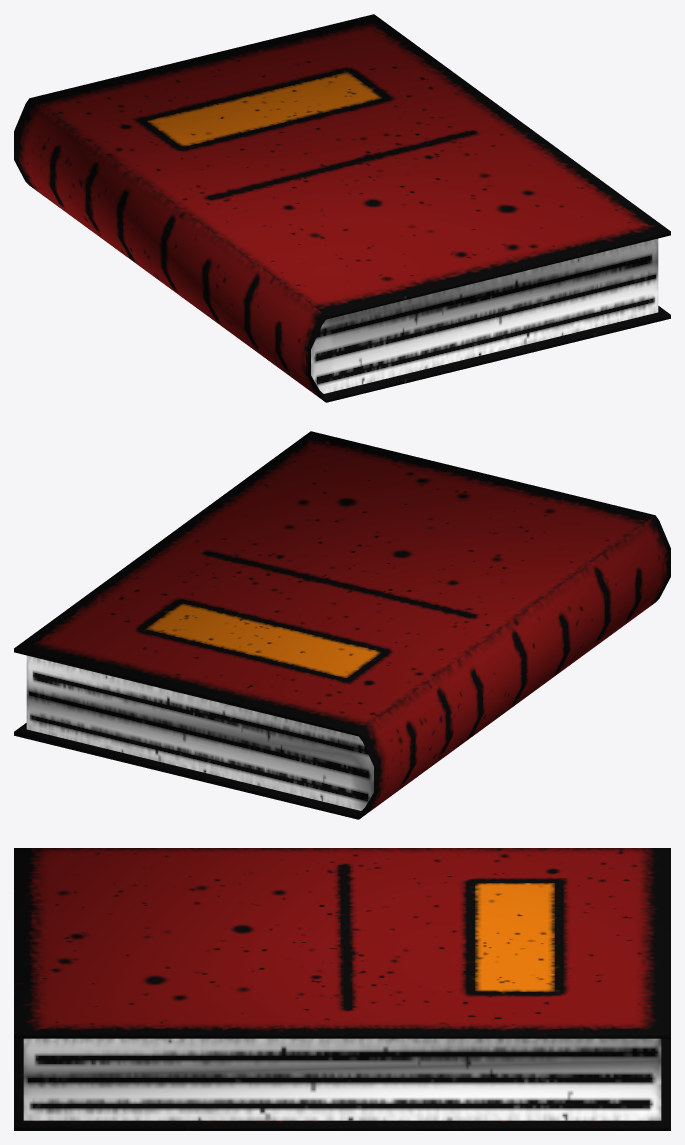
The model's file is book.obj.
3 renders of one model, top to bottom at view 1: azimuth 30°, elevation 25°; view 2: azimuth 150°, elevation 25°; view 3: azimuth 270°, elevation 25°, orthographic. The views are drawn at different scales.
Visible parts, largest first — view 1: book; view 2: book; view 3: book.
Part boxes in pixels (left/top/right/bottom): book: left=14, top=14, right=670, bottom=402; book: left=14, top=431, right=670, bottom=819; book: left=14, top=848, right=670, bottom=1130.
Size of the model in its own units: 1.46 by 0.3389 by 2.09.
